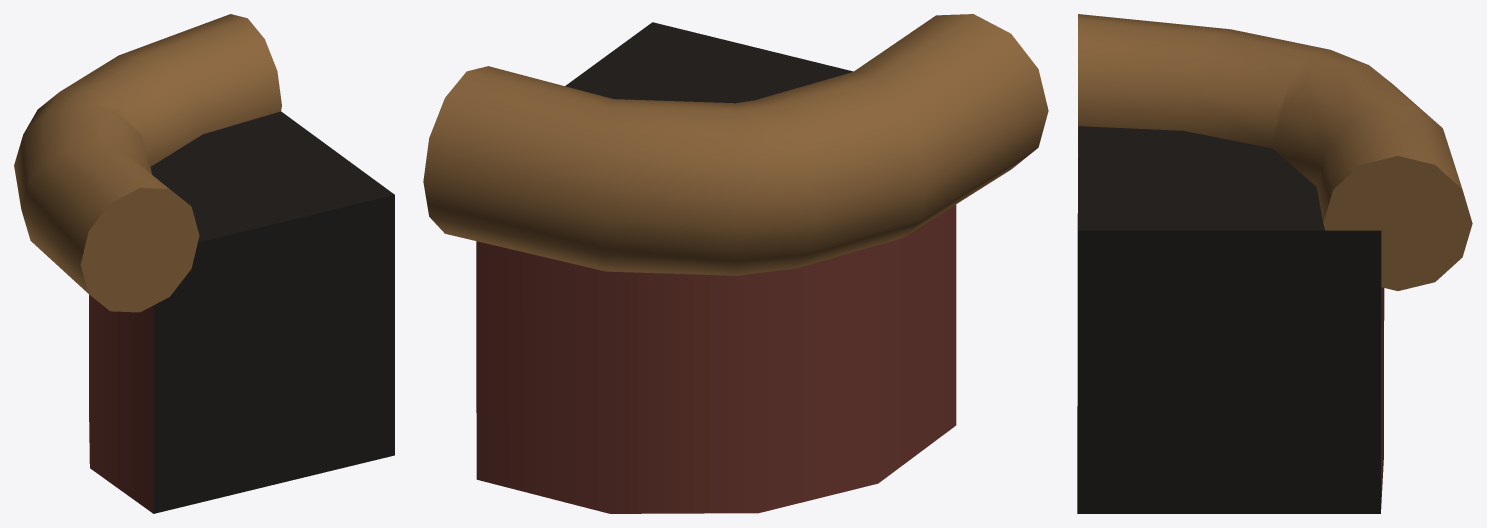
The model's file is corner_out..fbx.
3 views of the same model, side by side, from view 1: azimuth 30°, elevation 25°; view 2: azimuth 150°, elevation 25°; view 3: azimuth 270°, elevation 25° (orthographic). The views are drawn at different scales.
Parts seen in each view (by area): view 1: corner cube, corner rim; view 2: corner cube, corner rim; view 3: corner cube, corner rim.
Part boxes in pixels (x1=…): corner cube: x1=89, y1=111, x2=394, y2=513; corner rim: x1=14, y1=14, x2=281, y2=312; corner cube: x1=476, y1=22, x2=956, y2=513; corner rim: x1=423, y1=14, x2=1048, y2=275; corner cube: x1=1077, y1=126, x2=1384, y2=513; corner rim: x1=1078, y1=14, x2=1472, y2=290.
Bounding box in the file's own units: 222 × 223 × 223.
